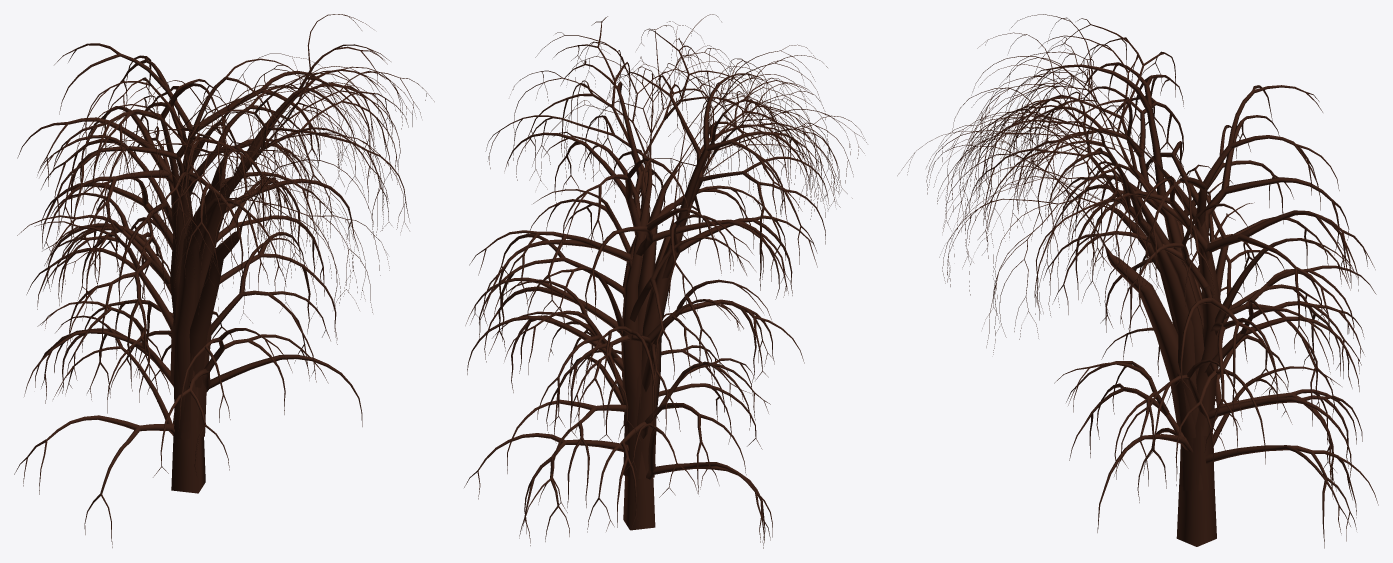
The model's file is HangingTree.fbx.
3 views of the same model, side by side, from view 1: azimuth 30°, elevation 25°; view 2: azimuth 150°, elevation 25°; view 3: azimuth 270°, elevation 25° (orthographic). The views are drawn at different scales.
Visible parts, largest first — view 1: tree; view 2: tree; view 3: tree.
Boxes of the visible parts, x1=… form: tree: x1=14, y1=14, x2=434, y2=547; tree: x1=464, y1=14, x2=866, y2=548; tree: x1=897, y1=14, x2=1378, y2=548.
Bounding box in the file's own units: 728 × 931 × 813.
